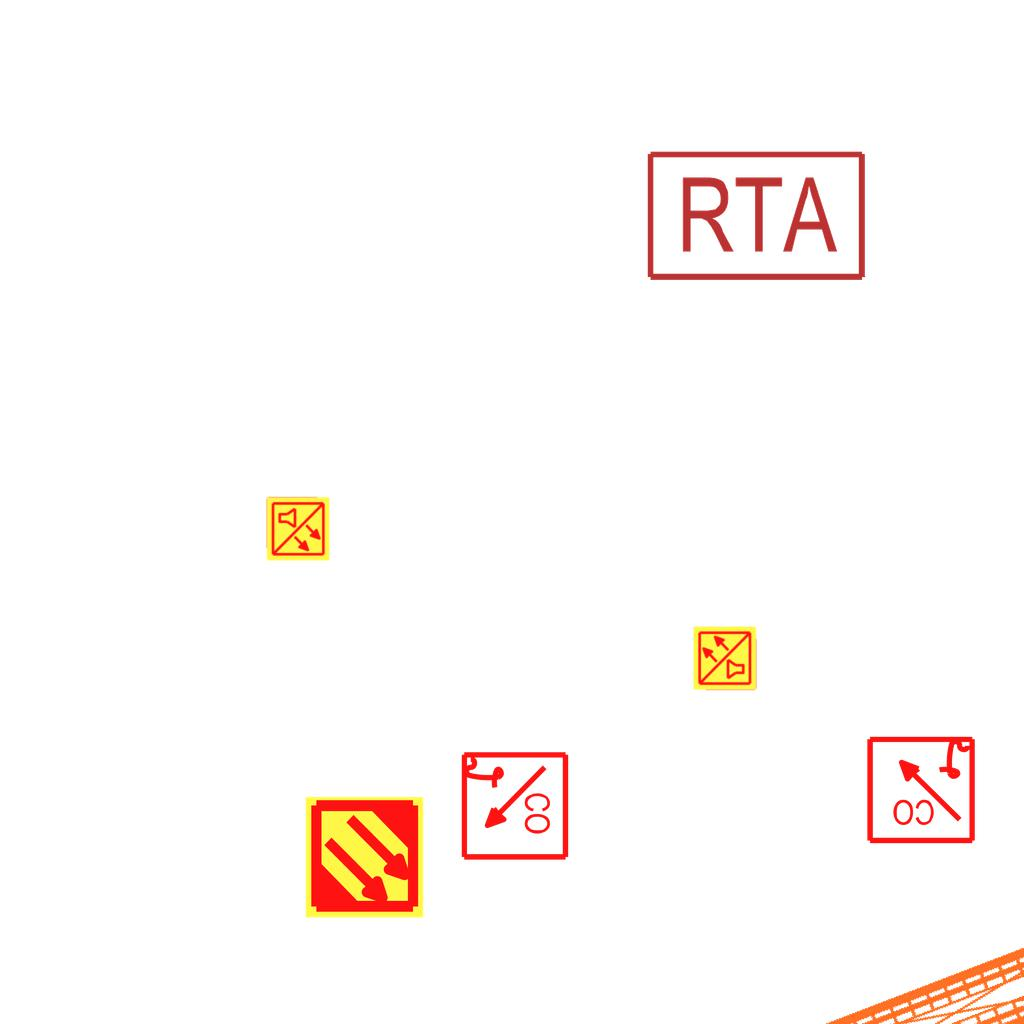ASR_Ansaugrauchmelder: (302, 795, 427, 920)
Buero_Pendelleuchten_LED: (746, 895, 1024, 1024)
OKW_Multisensormelder_(Kombination_optischer_Rauch-Kahlenmonoxid_Waerme-Melder): (265, 496, 331, 562), (692, 625, 758, 691)
ROA_Rauchmelder_optisch_mit_Signalgeber_(Sockelsirene): (457, 750, 570, 863), (864, 732, 977, 845)
Ruf-und_Abstelltaster: (640, 147, 868, 285)
